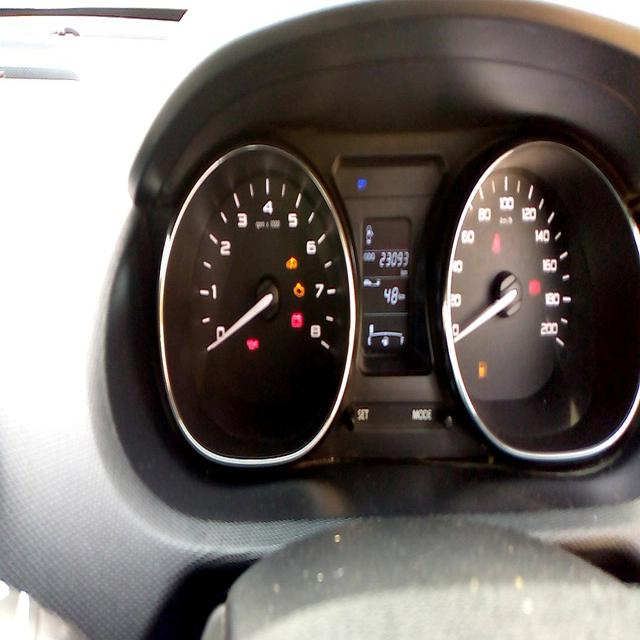odometer: (378, 249, 410, 268)
